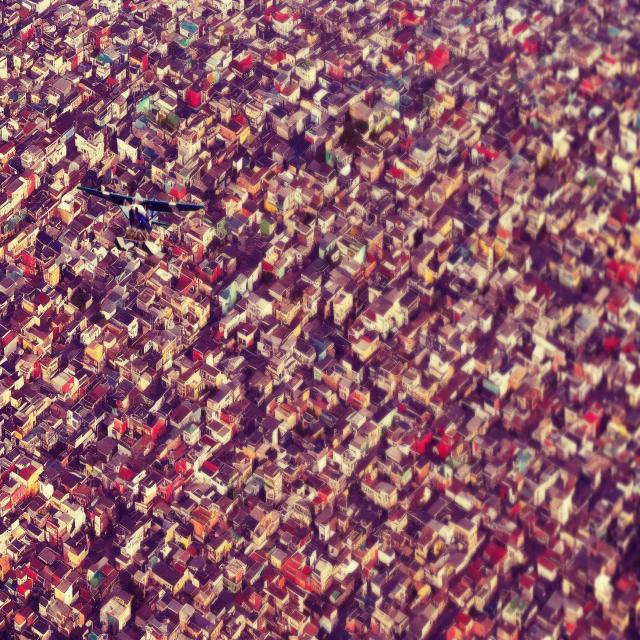airplane: (76, 180, 206, 242)
